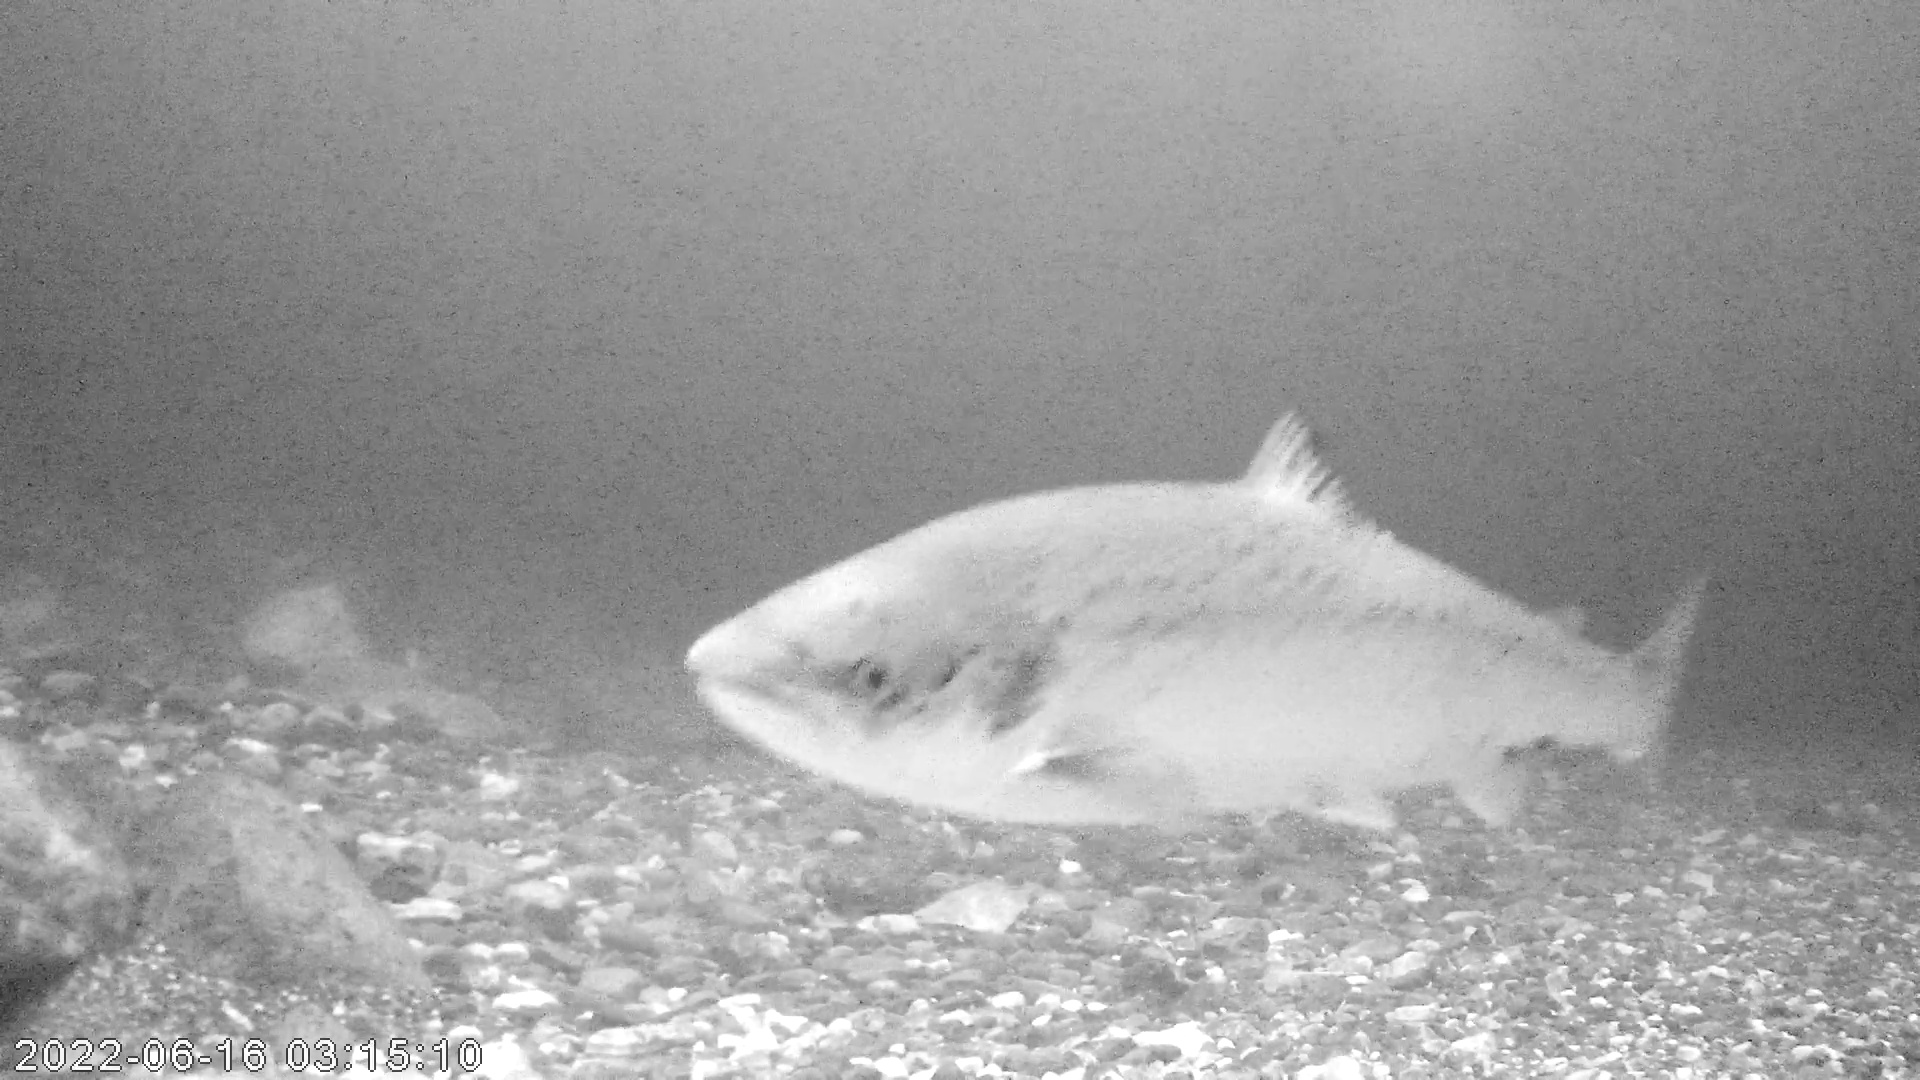salmon: (682, 409, 1712, 836)
